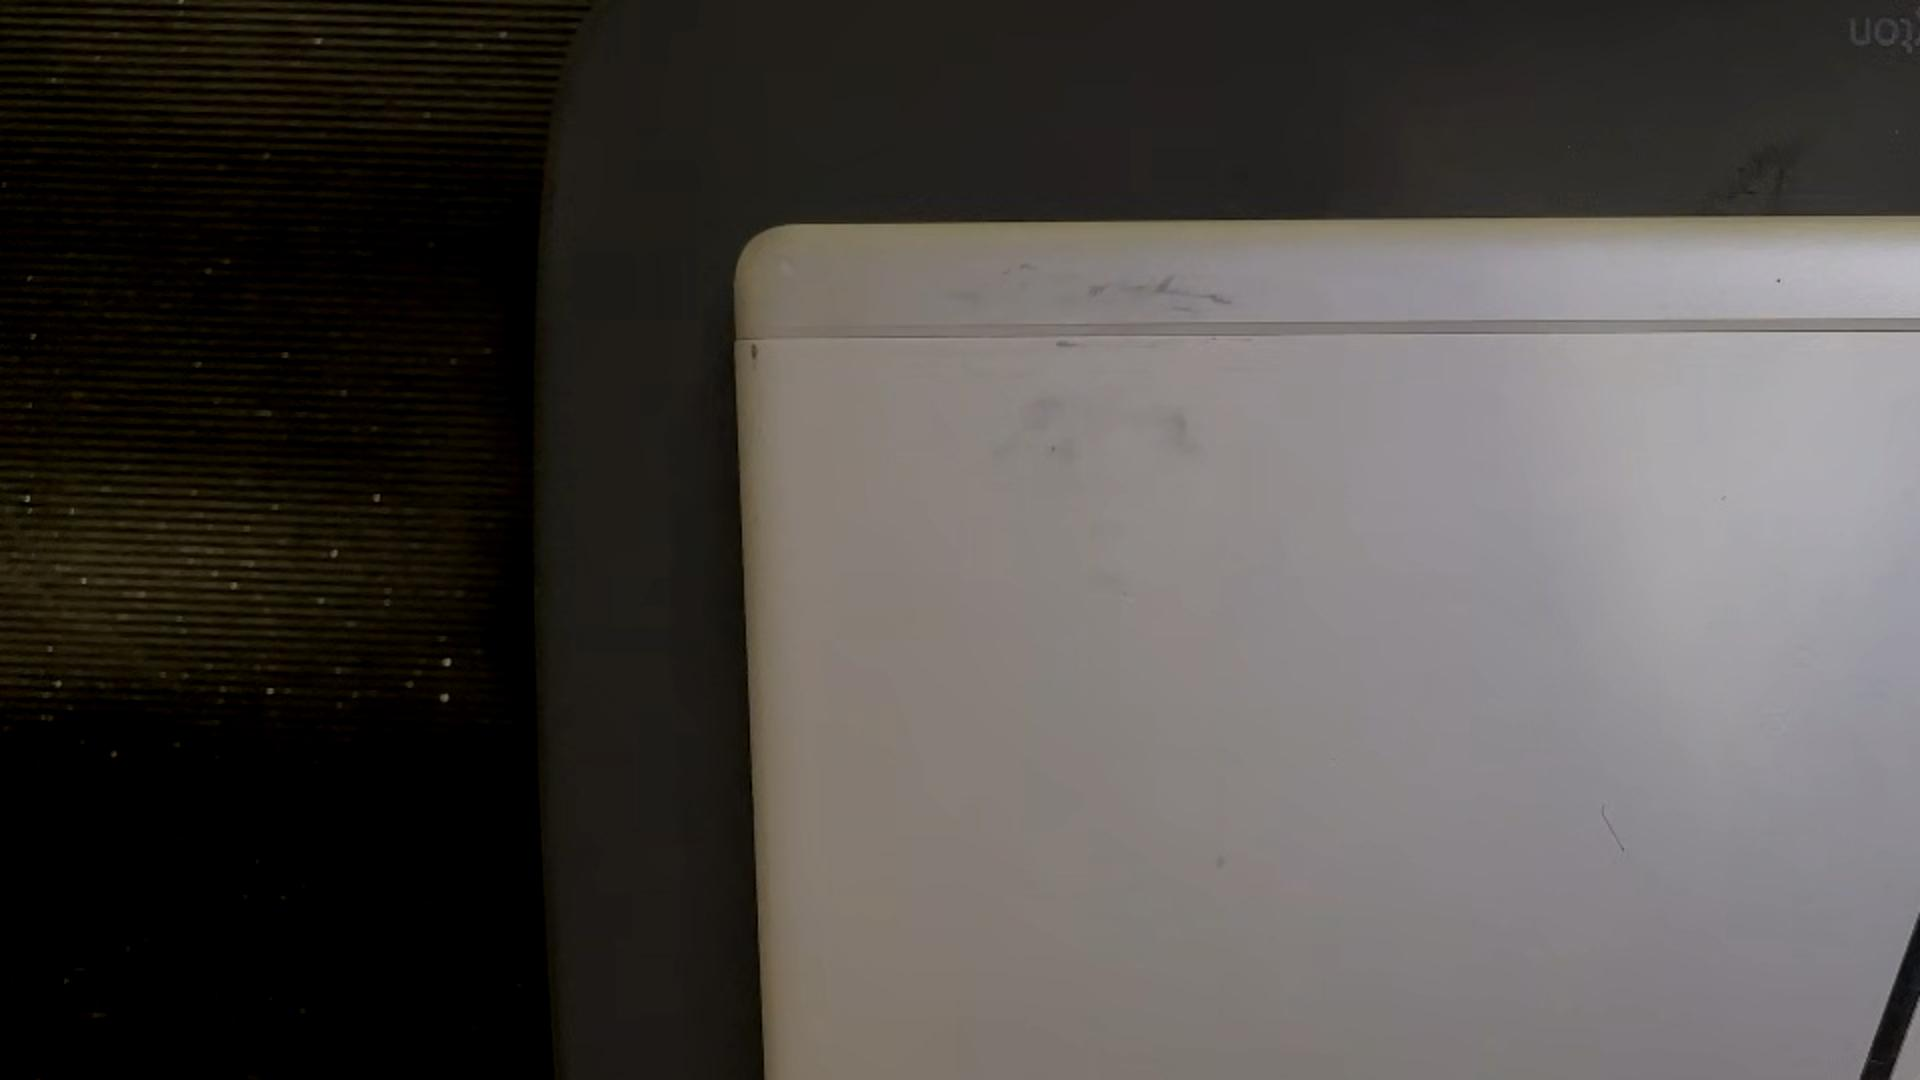scratches: (1598, 800, 1628, 853)
